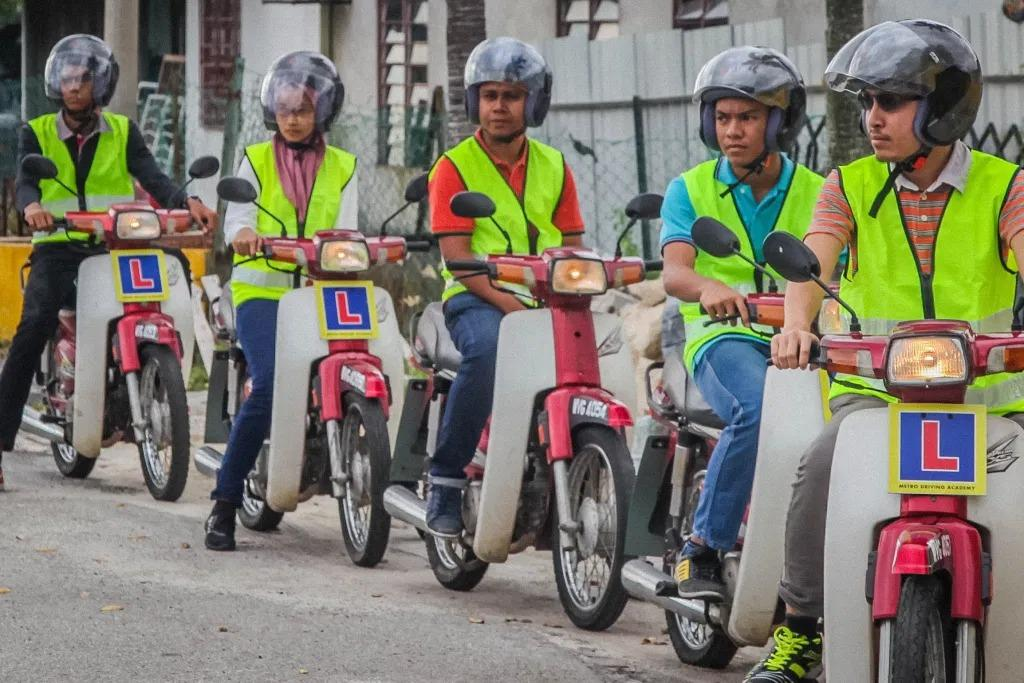helmet: (823, 18, 984, 160), (692, 45, 808, 165), (463, 36, 554, 136), (259, 49, 345, 142), (44, 33, 120, 111)
